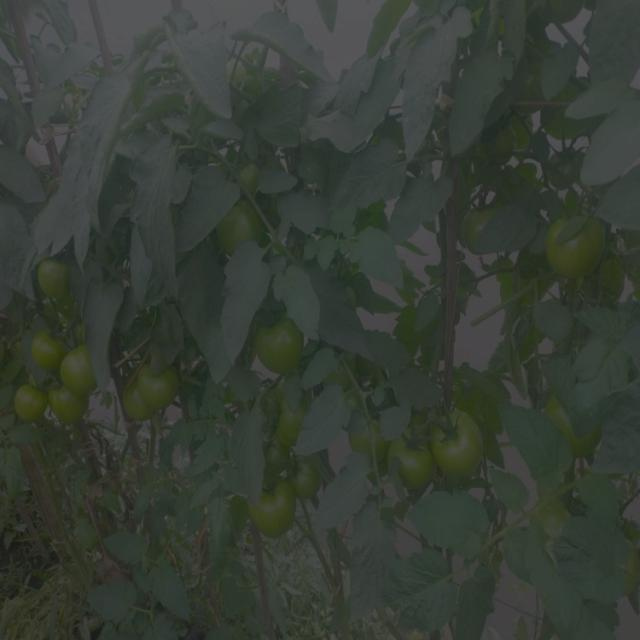tomato: (434, 405, 492, 485), (552, 213, 609, 276), (129, 358, 182, 422), (257, 471, 296, 543), (259, 319, 305, 379), (56, 335, 100, 392), (392, 432, 429, 493), (216, 205, 260, 256), (47, 377, 90, 425), (35, 252, 68, 303), (11, 379, 53, 419), (29, 322, 59, 374)
